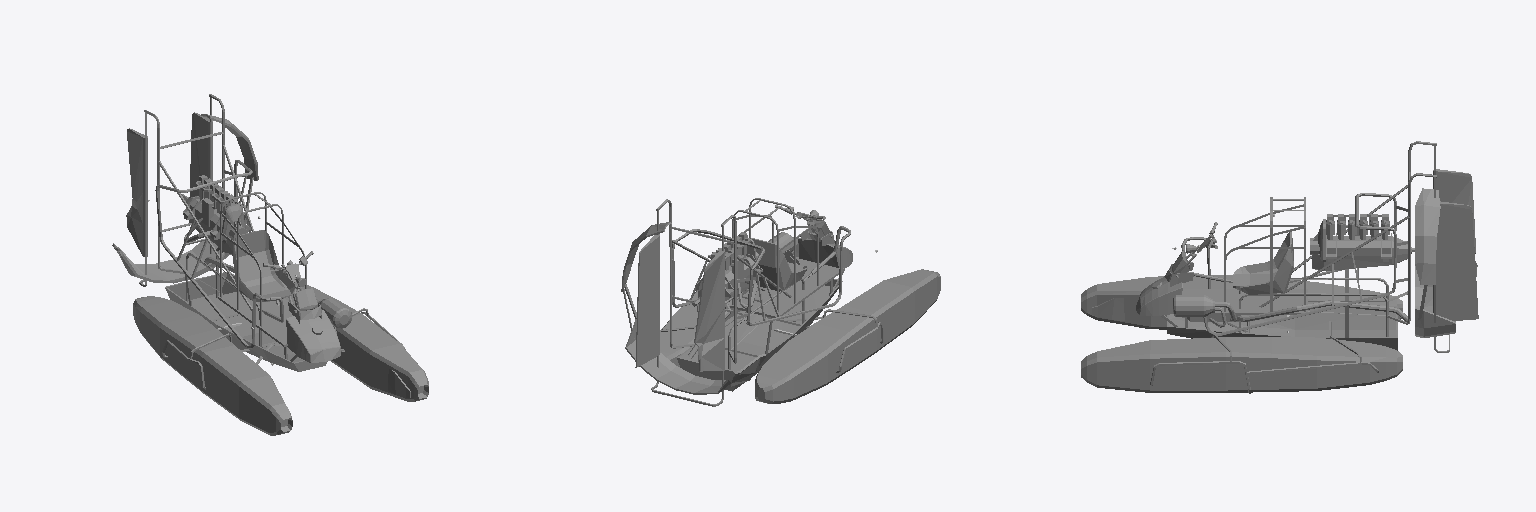
File: airboat.obj
3 renders of one model, left to right at view 1: azimuth 30°, elevation 25°; view 2: azimuth 150°, elevation 25°; view 3: azimuth 270°, elevation 25°, orthographic.
Visible parts, largest first — view 1: (null); view 2: (null); view 3: (null).
Part boxes in pixels (x1,y1,x2,y2): (null): (112,94,428,435); (null): (621,198,940,406); (null): (1081,141,1478,393).
Size of the model in its own units: 89.43 by 94.66 by 172.